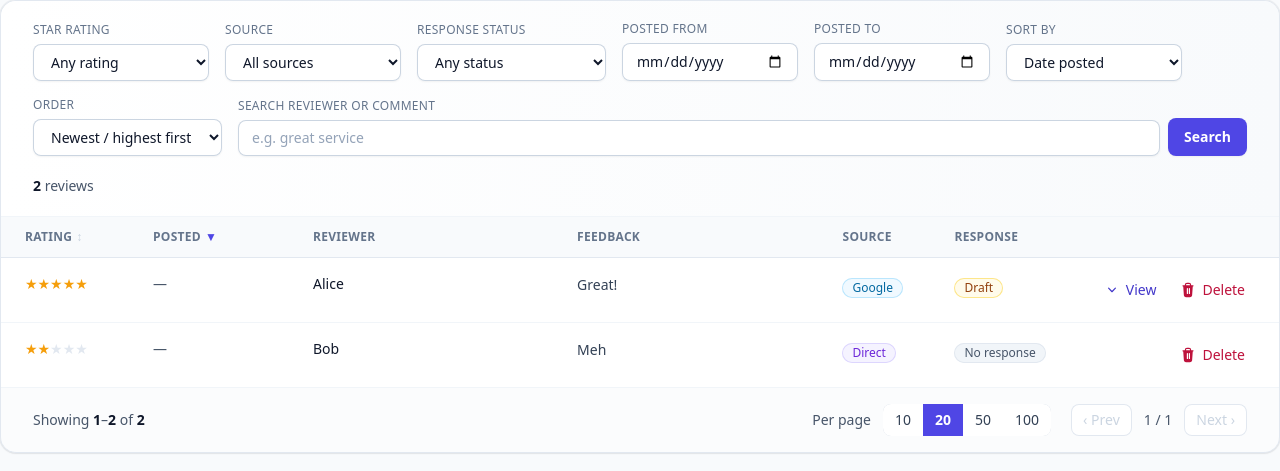
Test: Review Management — ReviewPanel › optimistic delete with 4-second Undo window › rolls back the optimistic hide and surfaces an error toast if the action fails
Click the button "Delete" in the row of "Alice" at (1213, 290), box 1170,274 -> 1255,306
Wait 4000 ms
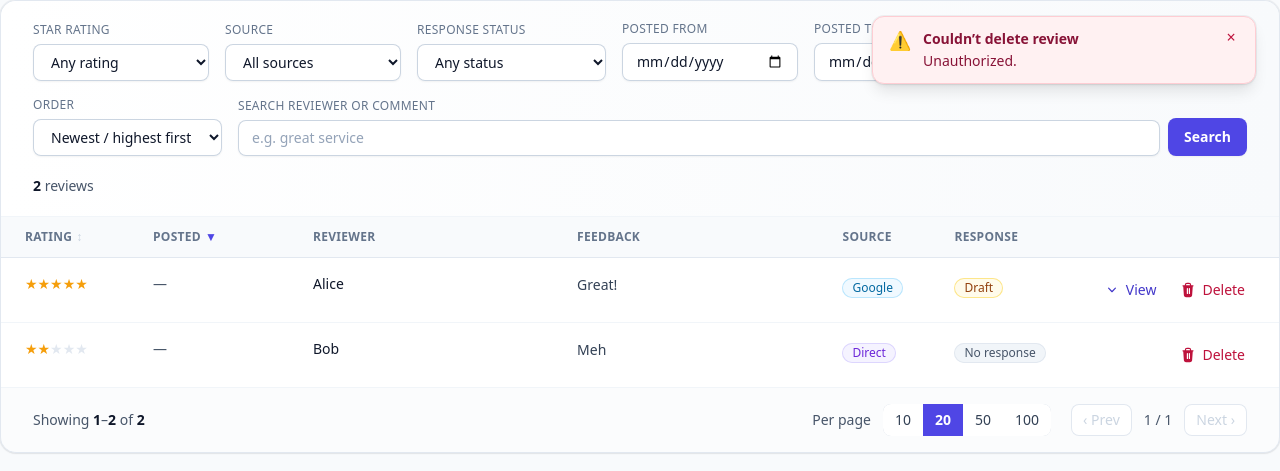
Expected: the row with test id "review-row-r1" is shown, 1,258 -> 1279,322
Expected: the element with test id "notification-toast-region" shows "Unauthorized", 923,51 -> 1017,70
